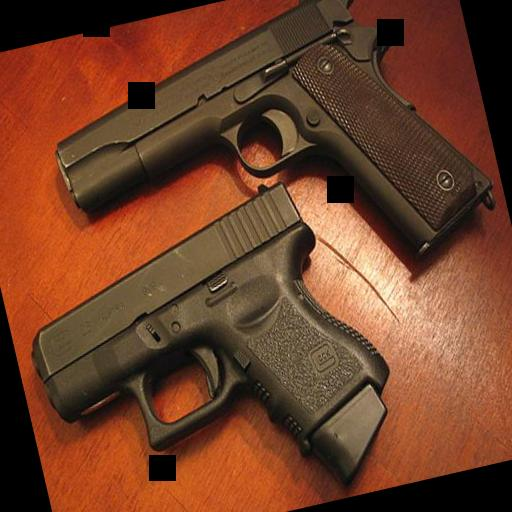Handgun: (26, 0, 504, 335), (2, 161, 417, 512)
